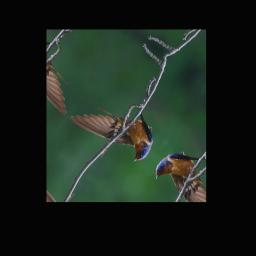Swallow: (67, 76, 168, 173)
